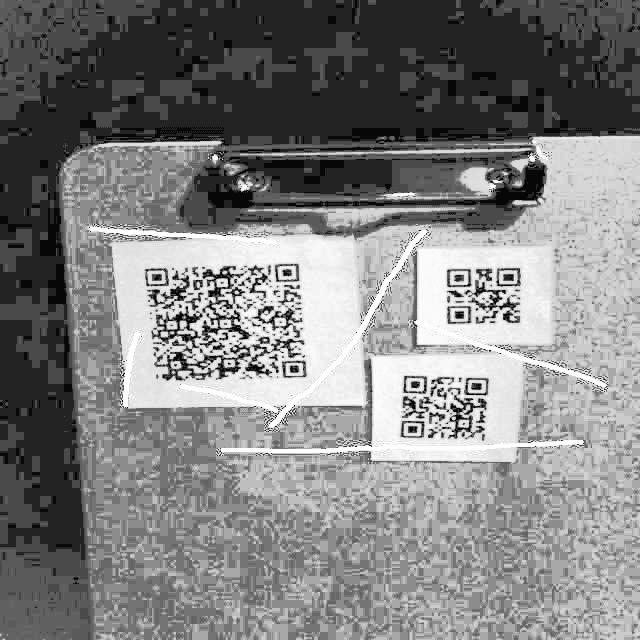qr_code: (130, 249, 313, 388), (388, 365, 503, 453), (433, 254, 529, 335)
